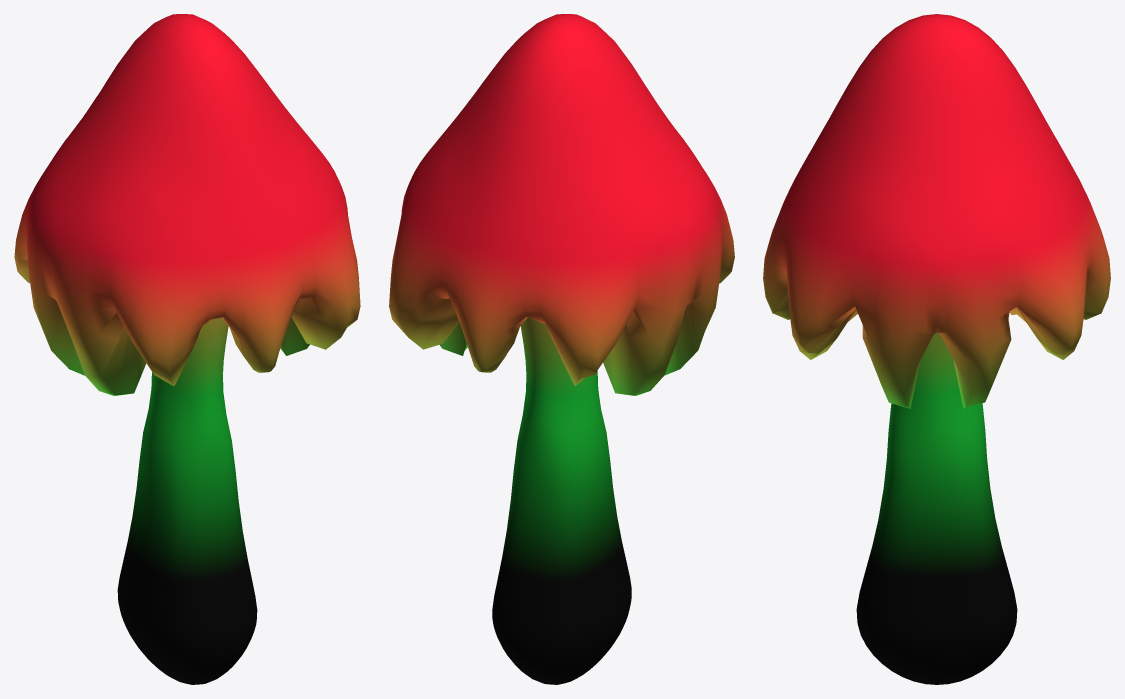
File: Mushroom_red green.fbx
3 views of the same model, side by side, from view 1: azimuth 30°, elevation 25°; view 2: azimuth 150°, elevation 25°; view 3: azimuth 270°, elevation 25° (orthographic).
Parts seen in each view (by area): view 1: Different mushroom; view 2: Different mushroom; view 3: Different mushroom.
Boxes of the visible parts, bbox=[...] form: Different mushroom: bbox=[14, 14, 360, 684]; Different mushroom: bbox=[389, 14, 734, 684]; Different mushroom: bbox=[763, 14, 1110, 684].
Size of the model in its own units: 348 by 780 by 370.
Materials: 1 (1 with a texture image).
